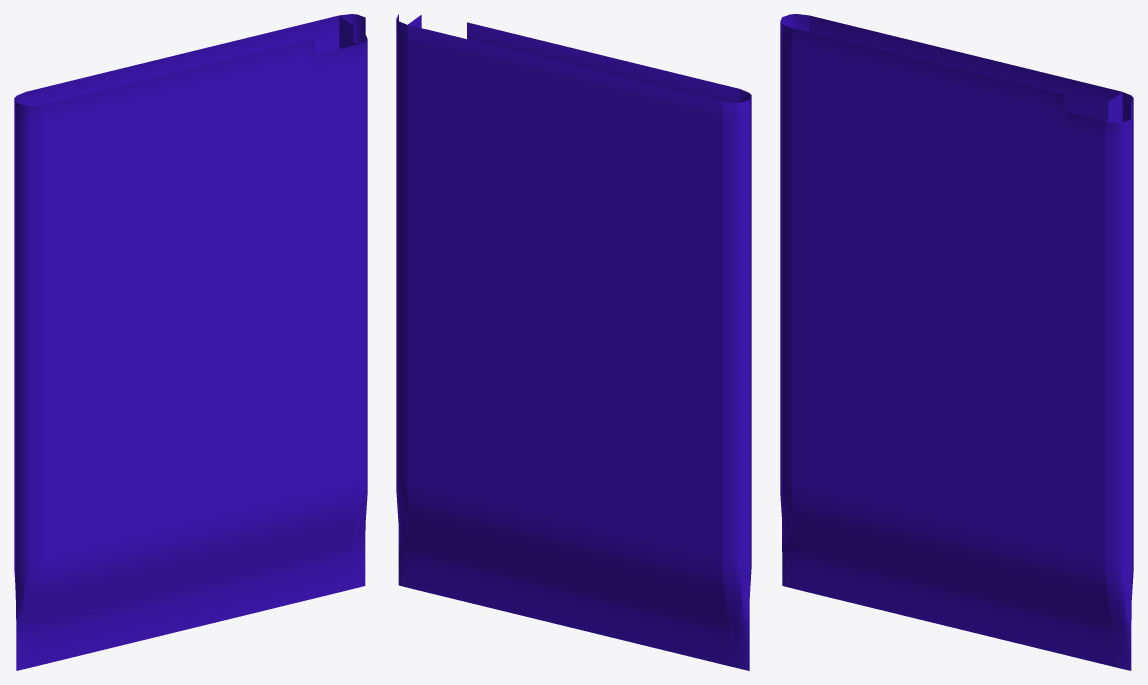
File: pack-body.glb
3 renders of one model, left to right at view 1: azimuth 30°, elevation 25°; view 2: azimuth 150°, elevation 25°; view 3: azimuth 330°, elevation 25°, orthographic.
Visible parts, largest first — view 1: Cube.002; view 2: Cube.002; view 3: Cube.002.
Boxes of the visible parts, <box> form: Cube.002: <box>14,14,367,670</box>; Cube.002: <box>396,14,751,670</box>; Cube.002: <box>780,14,1133,670</box>.
Size of the model in its own units: 1.32 by 2.05 by 0.1136.
